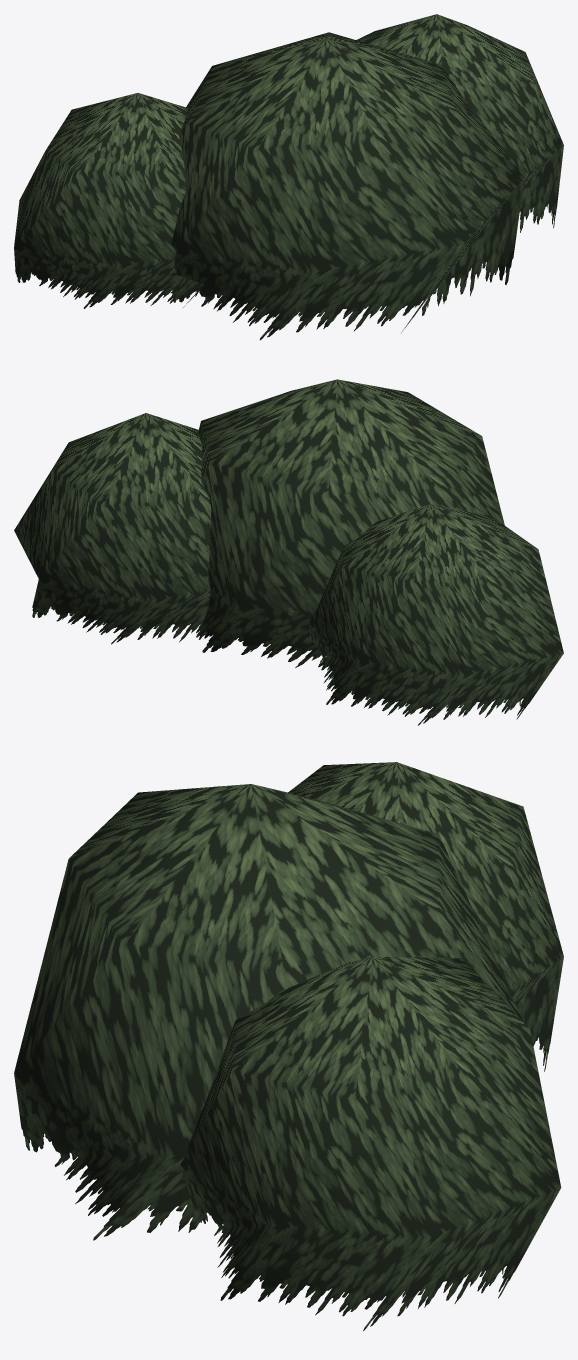
File: BerryBushLowPicked.fbx
3 views of the same model, one above another, from view 1: azimuth 30°, elevation 25°; view 2: azimuth 150°, elevation 25°; view 3: azimuth 270°, elevation 25° (orthographic). The views are drawn at different scales.
Visible parts, largest first — view 1: BerryBushLowPicked; view 2: BerryBushLowPicked; view 3: BerryBushLowPicked.
Boxes of the visible parts, box(x1,y1,x2,y2) form: BerryBushLowPicked: box(14, 14, 563, 340); BerryBushLowPicked: box(14, 379, 563, 725); BerryBushLowPicked: box(14, 762, 563, 1330).
Bounding box in the file's own units: 1.92 × 0.8707 × 1.13.
